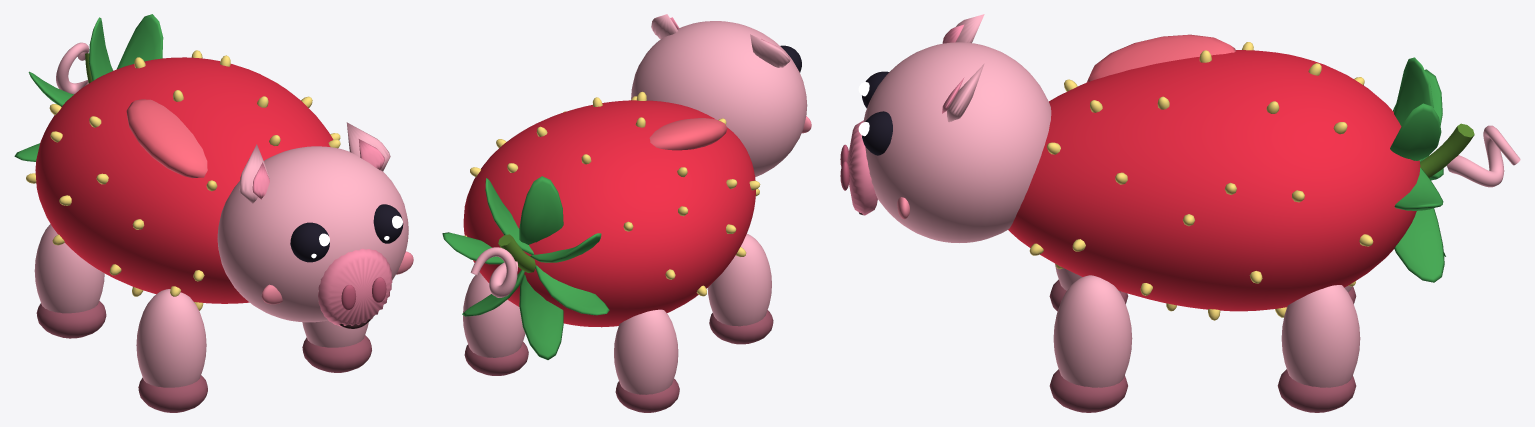
The model's file is pilot_gris_jordbaer.glb.
3 renders of one model, left to right at view 1: azimuth 30°, elevation 25°; view 2: azimuth 150°, elevation 25°; view 3: azimuth 270°, elevation 25°, orthographic. The views are drawn at different scales.
Parts seen in each view (by area): view 1: kropp, hode, bein_vf, bein_vb, bein_hf, hale; view 2: kropp, hode, bein_vb, bein_vf, bein_hb, hale; view 3: kropp, hode, bein_hf, bein_hb, hale, bein_vf.
Boxes of the visible parts, x1,y1,x2,y2 form: kropp: (14,14,340,310); hode: (217,122,413,328); bein_vf: (136,289,207,412); bein_vb: (34,224,106,338); bein_hf: (302,320,371,372); hale: (56,42,88,94); kropp: (442,91,760,359); hode: (631,14,811,176); bein_vb: (614,309,679,412); bein_vf: (707,234,773,344); bein_hb: (463,272,528,375); hale: (470,247,517,297); kropp: (1008,34,1474,320); hode: (840,14,1051,242); bein_hf: (1049,275,1132,412); bein_hb: (1277,285,1360,412); hale: (1447,125,1520,187); bein_vf: (1049,263,1128,311).
Size of the model in its own units: 0.8837 by 0.9088 by 1.73.
